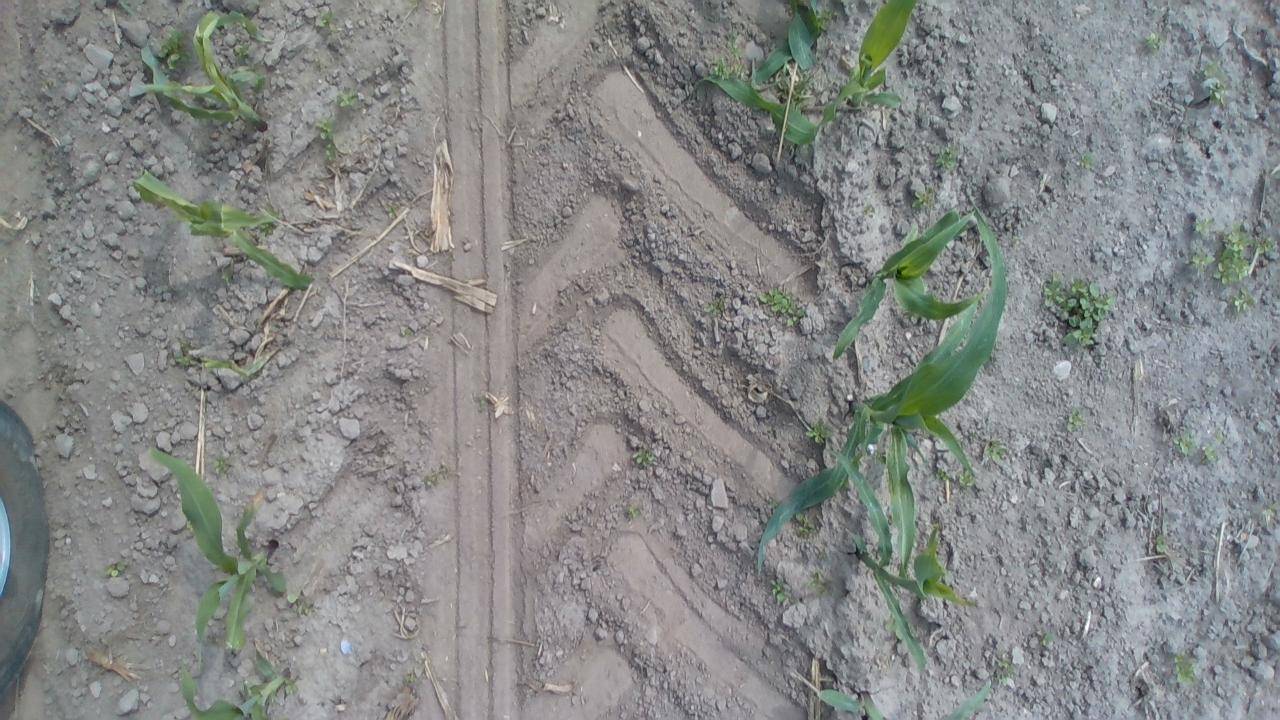Maize: (756, 203, 1010, 581), (816, 442, 974, 688), (703, 0, 931, 150), (146, 442, 297, 664), (828, 204, 989, 371), (131, 166, 319, 295), (128, 6, 273, 135), (808, 669, 1008, 720), (169, 646, 305, 720)
Weeds: (1038, 266, 1118, 350), (1211, 222, 1256, 286), (704, 38, 756, 88), (760, 286, 814, 328), (154, 26, 189, 69), (1168, 652, 1202, 684), (334, 84, 366, 116), (316, 119, 338, 165), (628, 442, 661, 472), (936, 141, 962, 179), (791, 505, 820, 536), (1209, 80, 1234, 114), (807, 6, 840, 31), (286, 588, 315, 616), (1251, 232, 1280, 259), (992, 656, 1018, 686), (908, 182, 938, 208), (1228, 292, 1260, 316), (314, 6, 346, 30), (981, 436, 1007, 464), (1200, 60, 1232, 82), (804, 419, 832, 444), (1145, 526, 1169, 555), (700, 292, 726, 318), (1138, 30, 1169, 51), (1062, 409, 1086, 436), (100, 559, 132, 579), (209, 452, 234, 477), (1174, 429, 1198, 455), (767, 575, 788, 604), (1260, 496, 1278, 528), (1192, 213, 1215, 238), (1074, 145, 1100, 166), (1190, 246, 1213, 268), (620, 502, 643, 524), (401, 671, 423, 692), (958, 466, 978, 489), (815, 549, 836, 569), (1038, 630, 1058, 650), (934, 464, 952, 484), (238, 36, 253, 60), (1211, 425, 1225, 448), (1202, 446, 1218, 464), (800, 577, 816, 592)
